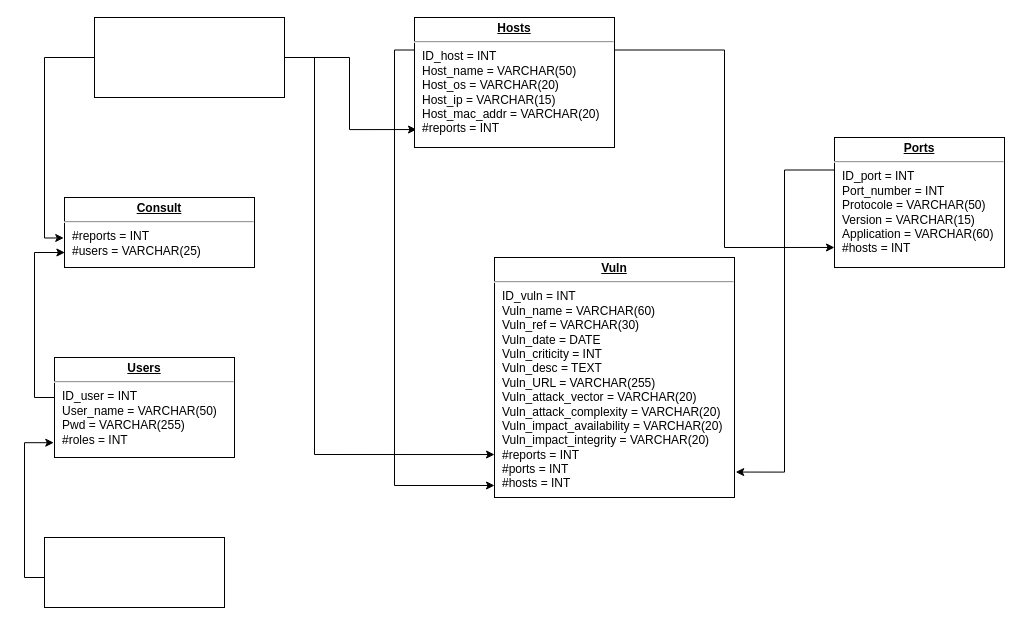
Some shapes in this 1022 by 625 pixel diagram are drawn without their labels. The box of each missing label's shape, as (x1, y1, x2, y2) in pixels:
Reports ID_report = INT Report_name = VARCHAR(25) Creation_date = DATE: (94, 16, 284, 98)
Roles ID_role = INT Role_name = VARCHAR(10): (44, 536, 224, 608)
